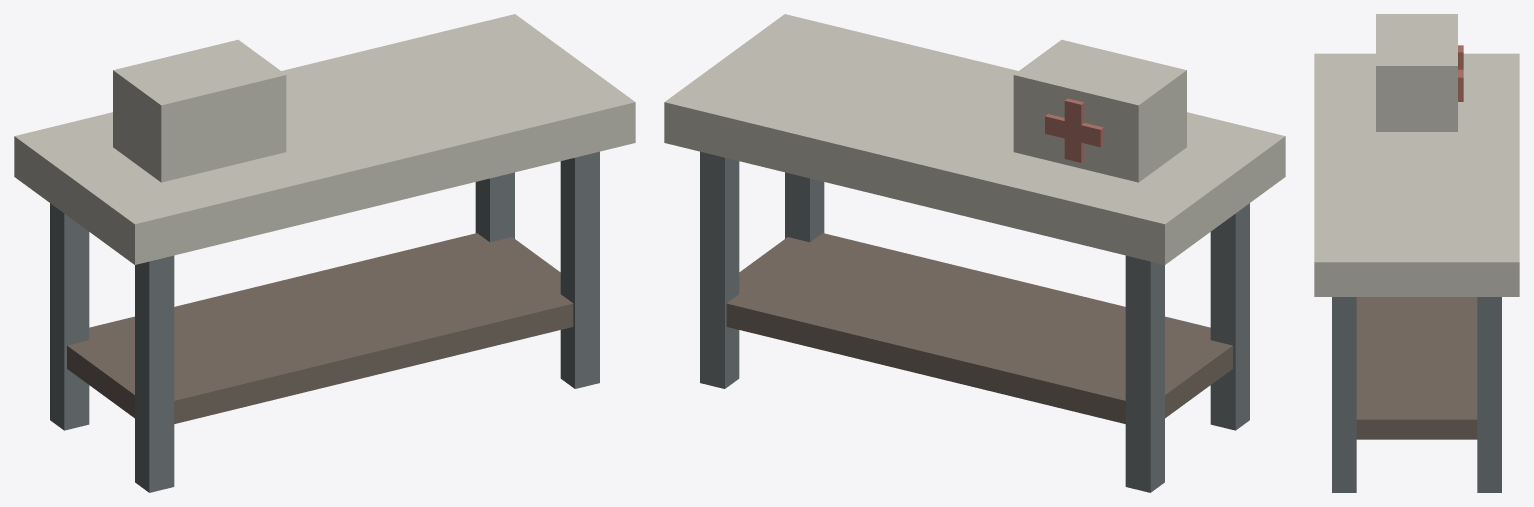
The model's file is medical_table.glb.
3 renders of one model, left to right at view 1: azimuth 30°, elevation 25°; view 2: azimuth 150°, elevation 25°; view 3: azimuth 270°, elevation 25°, orthographic. The views are drawn at different scales.
Visible parts, largest first — view 1: body; view 2: body; view 3: body.
Part boxes in pixels (x1,y1,x2,y2): body: (14,14,635,492); body: (664,14,1285,492); body: (1314,14,1519,492).
Size of the model in its own units: 1.8 by 1.24 by 0.75.
